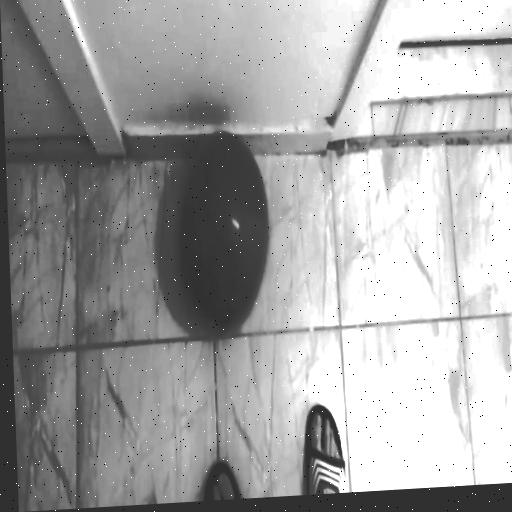balloon: (164, 119, 277, 346)
